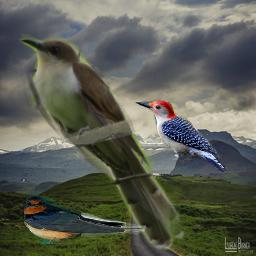Cuckoo: (18, 33, 185, 250)
Swallow: (20, 193, 146, 244)
Woodpecker: (135, 100, 228, 172)
